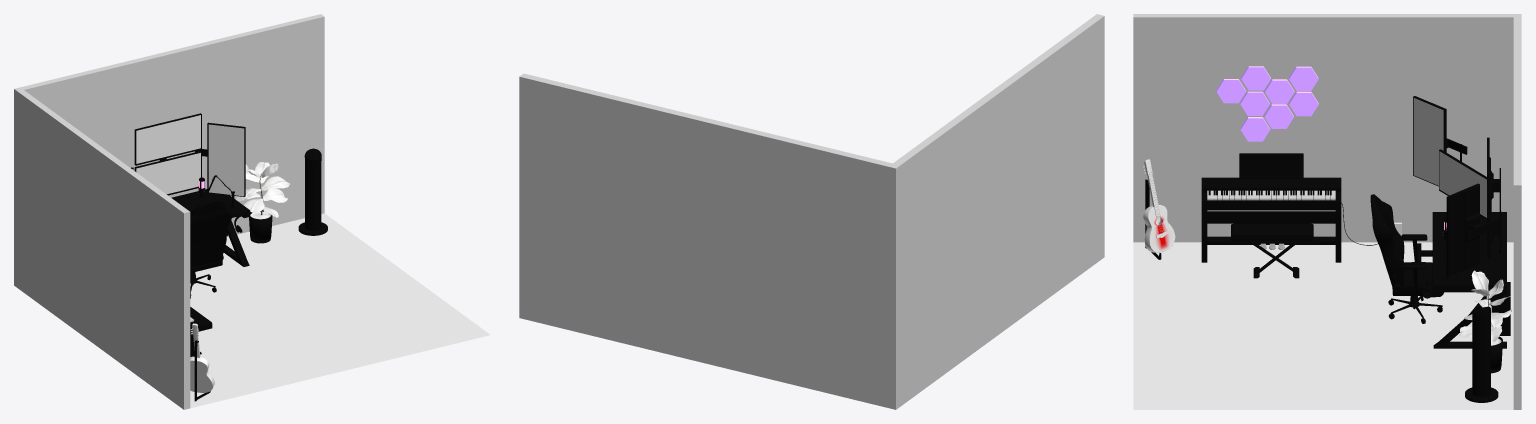
Rendered from office.glb.
3 views of the same model, side by side, from view 1: azimuth 30°, elevation 25°; view 2: azimuth 150°, elevation 25°; view 3: azimuth 270°, elevation 25° (orthographic). The views are drawn at different scales.
Parts seen in each view (by area): view 1: wall, ground, chair, monitor_05_screen, pot_plant_ficus, monitor_03_screen, monitor_04_screen, fan, desk, guitar, monitor_05, monitor_03; view 2: wall; view 3: wall, ground, piano_main, desk, chair, monitor_05, monitor_01_screen, piano_chair, fan, pot_plant_ficus, guitar, monitor_02_screen (+12 smaller).
Boxes of the visible parts, x1=… form: wall: x1=14, y1=14, x2=324, y2=409; ground: x1=190, y1=213, x2=490, y2=408; chair: x1=190, y1=199, x2=232, y2=298; monitor_05_screen: x1=208, y1=124, x2=244, y2=196; pot_plant_ficus: x1=236, y1=162, x2=289, y2=243; monitor_03_screen: x1=136, y1=115, x2=200, y2=163; monitor_04_screen: x1=136, y1=153, x2=200, y2=194; fan: x1=298, y1=148, x2=327, y2=235; desk: x1=171, y1=189, x2=250, y2=266; guitar: x1=190, y1=323, x2=214, y2=392; monitor_05: x1=195, y1=122, x2=245, y2=196; monitor_03: x1=134, y1=113, x2=201, y2=165; wall: x1=519, y1=14, x2=1104, y2=409; wall: x1=1133, y1=14, x2=1521, y2=409; ground: x1=1133, y1=242, x2=1513, y2=409; piano_main: x1=1201, y1=153, x2=1341, y2=262; desk: x1=1426, y1=212, x2=1506, y2=348; chair: x1=1370, y1=194, x2=1443, y2=323; monitor_05: x1=1446, y1=183, x2=1500, y2=276; monitor_01_screen: x1=1413, y1=98, x2=1443, y2=185; piano_chair: x1=1231, y1=223, x2=1313, y2=278; fan: x1=1465, y1=306, x2=1498, y2=402; pot_plant_ficus: x1=1459, y1=270, x2=1511, y2=373; guitar: x1=1142, y1=159, x2=1175, y2=252; monitor_02_screen: x1=1439, y1=151, x2=1486, y2=217.
Size of the model in its own units: 4.9 by 3 by 4.7.
Materials: 19 (1 with a texture image).
